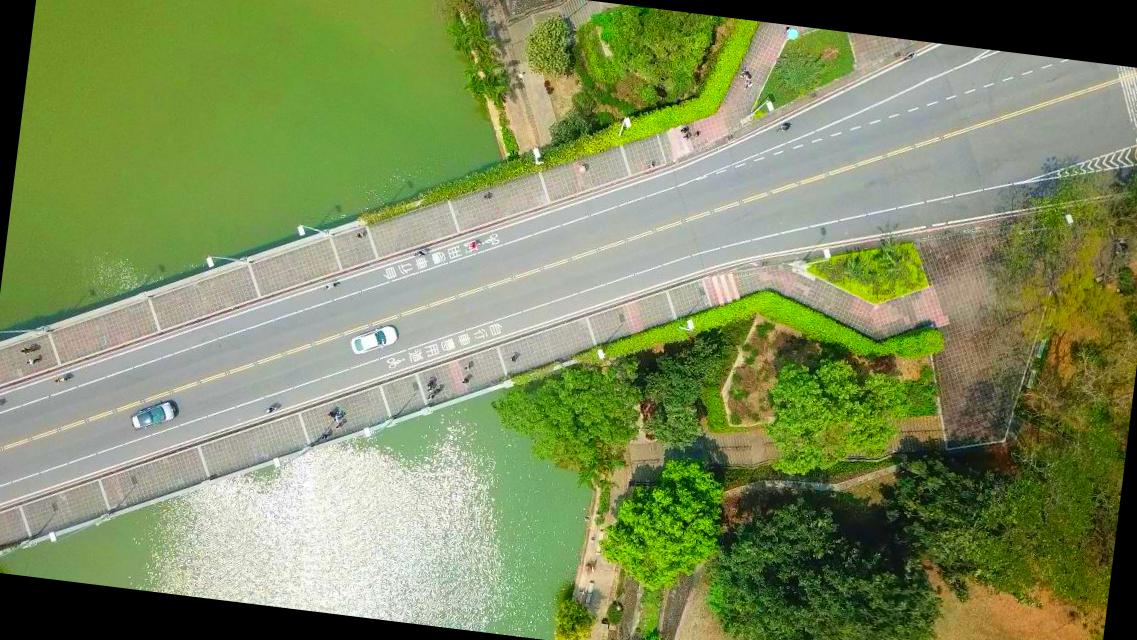vehicle: (348, 320, 399, 359), (130, 396, 177, 434)
